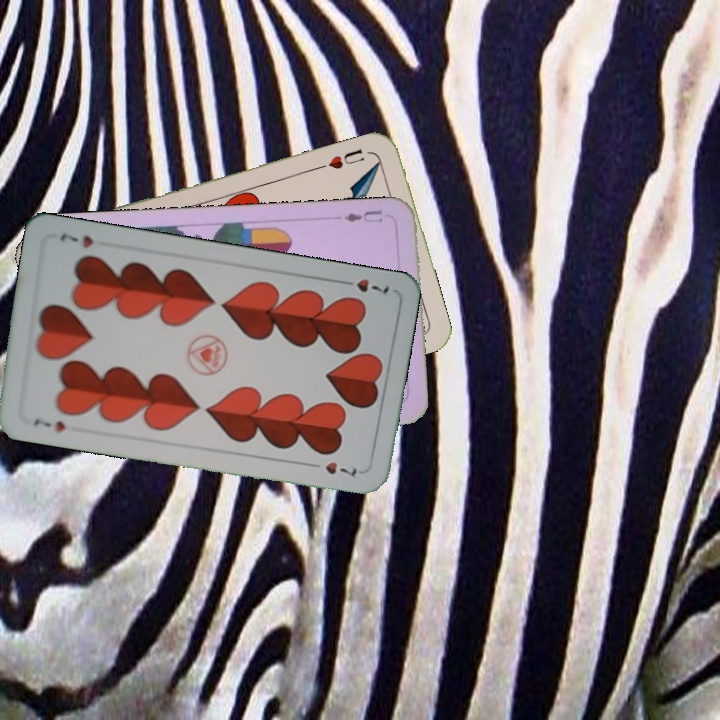EU: (340, 206, 385, 225)
H7: (335, 274, 392, 297), (29, 414, 69, 435)
HU: (324, 145, 366, 172)
